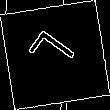L_SE: (25, 27, 85, 83)
